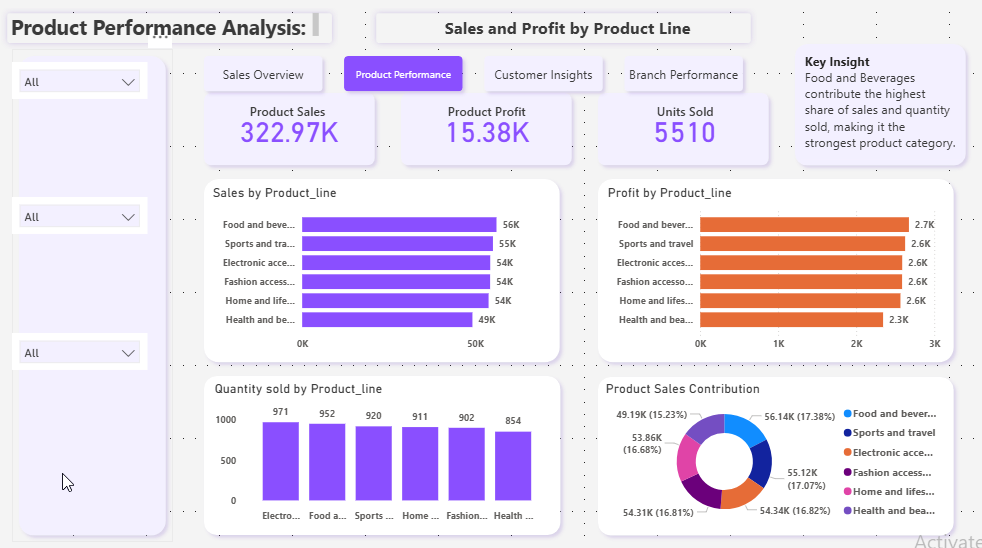

What the dashboard file says about the page in this screenshot:
{"tool":"powerbi","page":{"name":"Product Performance","canvas":[1280,720],"ordinal":1},"visuals":[{"type":"shape","box":[768,112,240,112],"z":0},{"type":"shape","box":[512,112,240,112],"z":1000},{"type":"shape","box":[256,112,240,112],"z":2000},{"type":"shape","box":[481,8.6,502.6,54.7],"z":3000},{"type":"shape","box":[768,480,480,224],"z":4000},{"type":"shape","box":[1.4,8.6,437.8,54.7],"z":5000},{"type":"shape","box":[15.8,63.4,208.8,640.8],"z":6000},{"type":"textbox","box":[0,11.5,419,43.2],"z":7000},{"type":"shape","box":[256.3,479.5,481,224.6],"z":8000},{"type":"card","fields":{"Values":["Measure Tables.Total Sales"]},"box":[272,128,208,80],"z":9000},{"type":"card","fields":{"Values":["Measure Tables.Total Profit"]},"box":[528,128,208,80],"z":10000},{"type":"card","fields":{"Values":["Measure Tables.Total Quantity"]},"box":[784,128,208,80],"z":11000},{"type":"slicer","fields":{"Values":["Supermarket_Sales.Branch"]},"box":[16,256,176,48],"z":12000},{"type":"slicer","fields":{"Values":["Supermarket_Sales.Payment"]},"box":[16,432,176,48],"z":13000},{"type":"slicer","fields":{"Values":["Supermarket_Sales.Product_line"]},"box":[16,80,176,48],"z":14000},{"type":"textbox","box":[502.6,15.8,469.4,38.9],"z":15000},{"type":"textbox","box":[320,128,128,48],"z":16000},{"type":"textbox","box":[576,128,128,32],"z":17000},{"type":"textbox","box":[848,128,96,32],"z":18000},{"type":"shape","box":[768,224,480,256],"z":19000},{"type":"shape","box":[256,224,480,256],"z":20000},{"type":"barChart","title":" Sales by Product_line","fields":{"Category":["Supermarket_Sales.Product_line"],"Y":["Measure Tables.Total Sales"]},"box":[272,240,432,224],"z":21000},{"type":"barChart","title":"Profit by Product_line","fields":{"Y":["Measure Tables.Total Profit"],"Category":["Supermarket_Sales.Product_line"]},"box":[784,240,448,224],"z":22000},{"type":"columnChart","title":"Quantity sold by Product_line","fields":{"Category":["Supermarket_Sales.Product_line"],"Y":["Measure Tables.Total Quantity"]},"box":[273.6,495.4,446.4,190.1],"z":23000},{"type":"donutChart","title":"Product Sales Contribution","fields":{"Category":["Supermarket_Sales.Product_line"],"Y":["Measure Tables.Total Sales"]},"box":[781.9,495.4,450.7,190.1],"z":24000},{"type":"shape","box":[1024,48,240,176],"z":25000},{"type":"pageNavigator","box":[256,64,720,64],"z":26000},{"type":"textbox","box":[1040,64,208,144],"z":27000}]}

Visuals, with their boxes on the page's 1280x720 design canvas (x1, y1, x2, y2). These are canvas units, not pixel positions in the 982x548 screenshot, which may show the page scaled, cropped or inside an application window:
shape: box(768, 112, 1008, 224)
shape: box(512, 112, 752, 224)
shape: box(256, 112, 496, 224)
shape: box(481, 9, 984, 63)
shape: box(768, 480, 1248, 704)
shape: box(1, 9, 439, 63)
shape: box(16, 63, 225, 704)
textbox: box(0, 12, 419, 55)
shape: box(256, 480, 737, 704)
card - Measure Tables.Total Sales: box(272, 128, 480, 208)
card - Measure Tables.Total Profit: box(528, 128, 736, 208)
card - Measure Tables.Total Quantity: box(784, 128, 992, 208)
slicer - Supermarket_Sales.Branch: box(16, 256, 192, 304)
slicer - Supermarket_Sales.Payment: box(16, 432, 192, 480)
slicer - Supermarket_Sales.Product_line: box(16, 80, 192, 128)
textbox: box(503, 16, 972, 55)
textbox: box(320, 128, 448, 176)
textbox: box(576, 128, 704, 160)
textbox: box(848, 128, 944, 160)
shape: box(768, 224, 1248, 480)
shape: box(256, 224, 736, 480)
" Sales by Product_line" barChart: box(272, 240, 704, 464)
"Profit by Product_line" barChart: box(784, 240, 1232, 464)
"Quantity sold by Product_line" columnChart: box(274, 495, 720, 686)
"Product Sales Contribution" donutChart: box(782, 495, 1233, 686)
shape: box(1024, 48, 1264, 224)
pageNavigator: box(256, 64, 976, 128)
textbox: box(1040, 64, 1248, 208)
